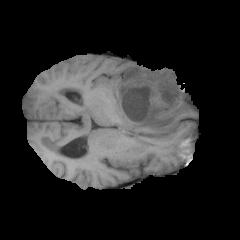glioma: (111, 66, 193, 134)
